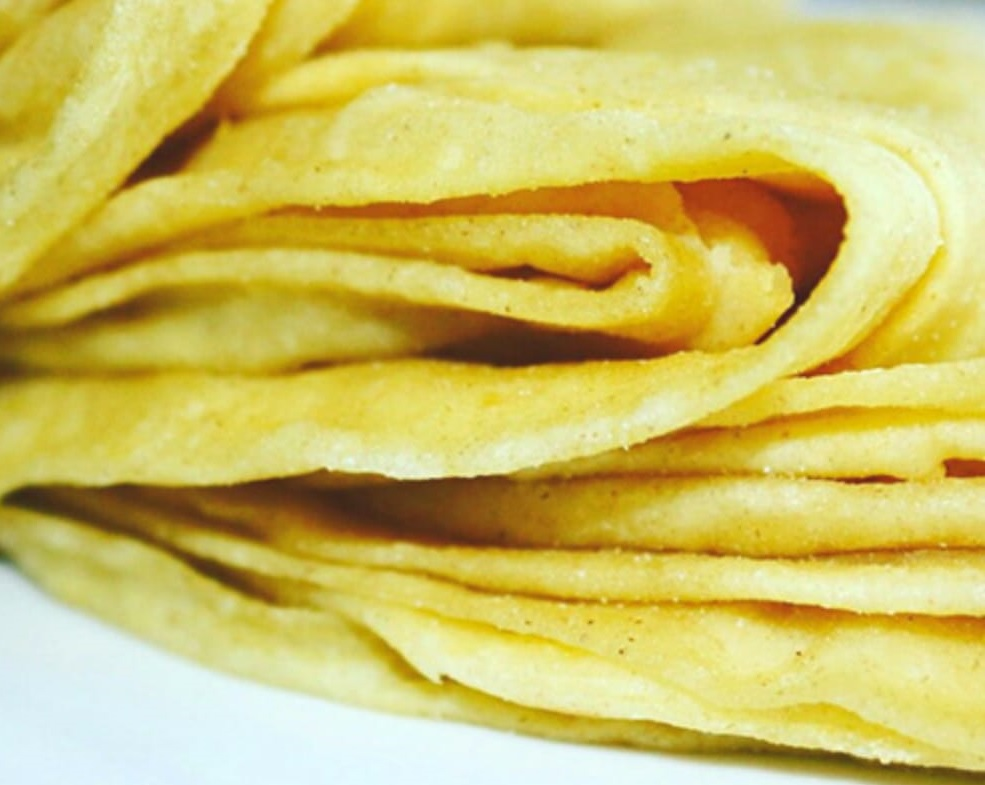Farata: (12, 9, 967, 775)
